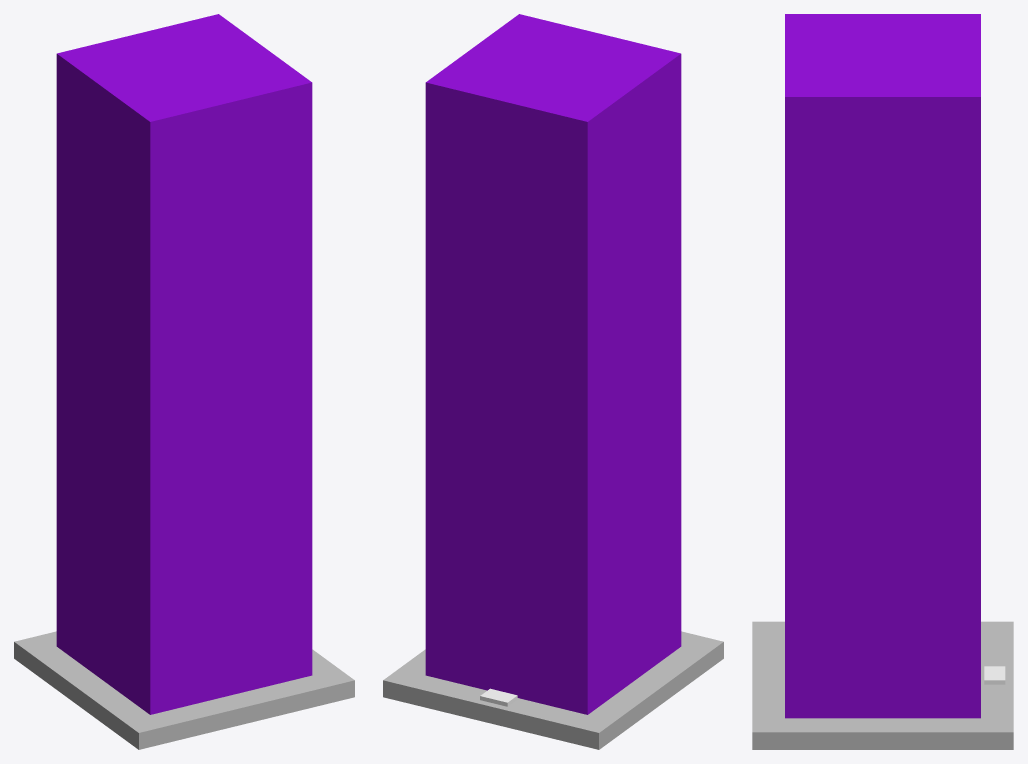
The model's file is building1(2).fbx.
The picture shows the model from 3 angles, left to right: view 1: azimuth 30°, elevation 25°; view 2: azimuth 150°, elevation 25°; view 3: azimuth 270°, elevation 25°; orthographic projection. The views are drawn at different scales.
Visible parts, largest first — view 1: Empty_Tile.002, Empty_Tile.001; view 2: Empty_Tile.002, Empty_Tile.001; view 3: Empty_Tile.002, Empty_Tile.001.
Boxes of the visible parts, x1,y1,x2,y2 form: Empty_Tile.002: (56,14,312,714); Empty_Tile.001: (14,631,354,749); Empty_Tile.002: (425,14,681,714); Empty_Tile.001: (383,631,723,749); Empty_Tile.002: (785,14,980,718); Empty_Tile.001: (752,621,1013,749).
Size of the model in its own units: 800 by 2158 by 800.
